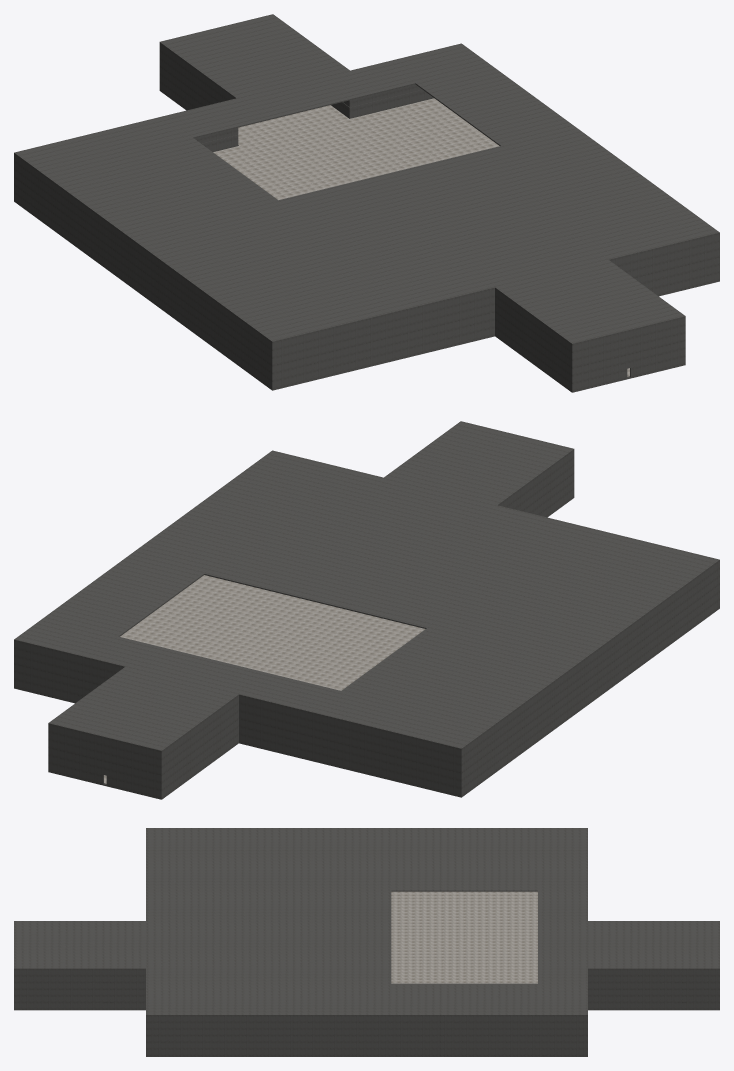
Rendered from chamber4.gltf.
The picture shows the model from 3 angles, top to bottom: view 1: azimuth 30°, elevation 25°; view 2: azimuth 150°, elevation 25°; view 3: azimuth 270°, elevation 25°; orthographic projection. The views are drawn at different scales.
Visible parts, largest first — view 1: chamber_4; view 2: chamber_4; view 3: chamber_4.
Boxes of the visible parts, bbox=[...] form: chamber_4: bbox=[14, 14, 719, 392]; chamber_4: bbox=[14, 421, 719, 799]; chamber_4: bbox=[14, 828, 719, 1056].
Bounding box in the file's own units: 20.1 × 2.1 × 32.1.
